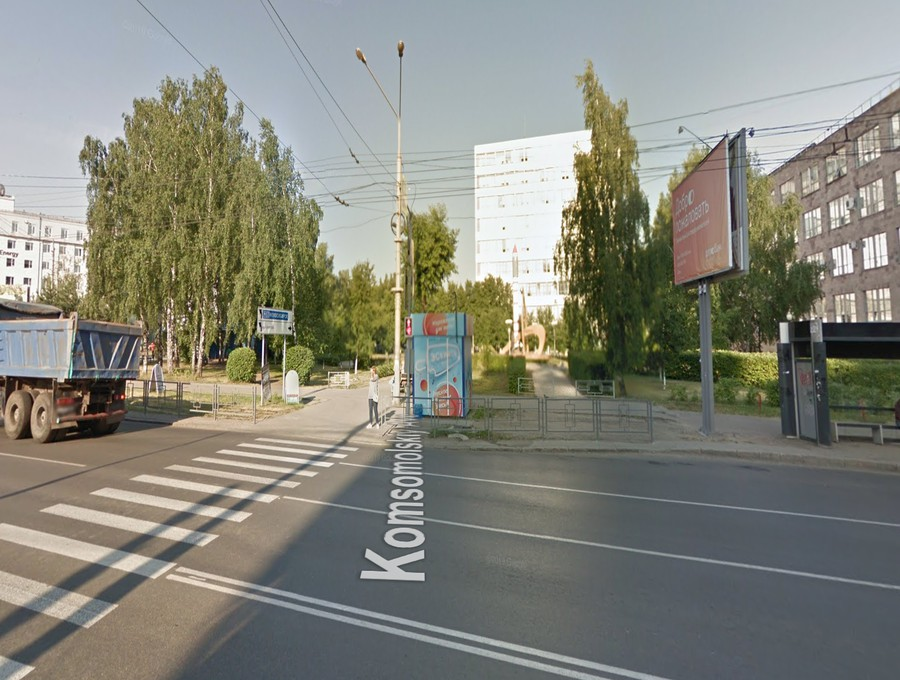Traffic Light-red: (403, 314, 415, 341)
